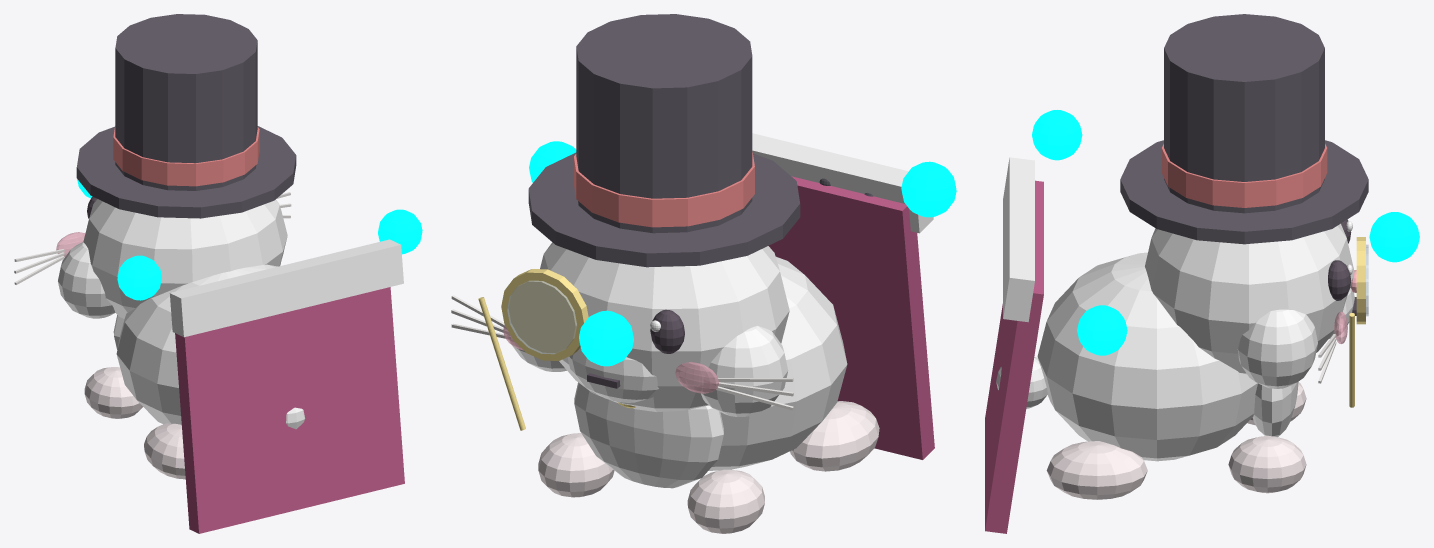
Rendered from UnknownHamsterMrNobody.glb.
The picture shows the model from 3 angles, left to right: view 1: azimuth 30°, elevation 25°; view 2: azimuth 150°, elevation 25°; view 3: azimuth 270°, elevation 25°; orthographic projection. The views are drawn at different scales.
Parts seen in each view (by area): view 1: UnknownHamsterMrNobody_3, UnknownHamsterMrNobody_2, UnknownHamsterMrNobody_7, UnknownHamsterMrNobody_12, UnknownHamsterMrNobody_8, UnknownHamsterMrNobody_5, UnknownHamsterMrNobody_0, UnknownHamsterMrNobody_6; view 2: UnknownHamsterMrNobody_2, UnknownHamsterMrNobody_7, UnknownHamsterMrNobody_3, UnknownHamsterMrNobody_12, UnknownHamsterMrNobody_8, UnknownHamsterMrNobody_11, UnknownHamsterMrNobody_0, UnknownHamsterMrNobody_5, UnknownHamsterMrNobody_4, UnknownHamsterMrNobody_6, UnknownHamsterMrNobody_1, UnknownHamsterMrNobody_10; view 3: UnknownHamsterMrNobody_7, UnknownHamsterMrNobody_2, UnknownHamsterMrNobody_3, UnknownHamsterMrNobody_8, UnknownHamsterMrNobody_12, UnknownHamsterMrNobody_0, UnknownHamsterMrNobody_5, UnknownHamsterMrNobody_11, UnknownHamsterMrNobody_1.
Part boxes in pixels (bbox=[...]): UnknownHamsterMrNobody_3: bbox=[175, 287, 404, 533]; UnknownHamsterMrNobody_2: bbox=[76, 14, 296, 218]; UnknownHamsterMrNobody_7: bbox=[58, 199, 305, 429]; UnknownHamsterMrNobody_12: bbox=[113, 239, 403, 349]; UnknownHamsterMrNobody_8: bbox=[84, 367, 185, 479]; UnknownHamsterMrNobody_5: bbox=[113, 126, 259, 186]; UnknownHamsterMrNobody_0: bbox=[77, 179, 422, 300]; UnknownHamsterMrNobody_6: bbox=[14, 192, 291, 284]; UnknownHamsterMrNobody_2: bbox=[528, 14, 873, 267]; UnknownHamsterMrNobody_7: bbox=[510, 242, 847, 470]; UnknownHamsterMrNobody_3: bbox=[768, 176, 934, 459]; UnknownHamsterMrNobody_12: bbox=[567, 133, 933, 488]; UnknownHamsterMrNobody_8: bbox=[538, 401, 879, 533]; UnknownHamsterMrNobody_11: bbox=[478, 269, 635, 430]; UnknownHamsterMrNobody_0: bbox=[529, 141, 956, 366]; UnknownHamsterMrNobody_5: bbox=[574, 151, 754, 227]; UnknownHamsterMrNobody_4: bbox=[507, 280, 576, 354]; UnknownHamsterMrNobody_6: bbox=[451, 295, 793, 410]; UnknownHamsterMrNobody_1: bbox=[587, 309, 684, 388]; UnknownHamsterMrNobody_10: bbox=[503, 325, 718, 393]; UnknownHamsterMrNobody_7: bbox=[996, 223, 1354, 461]; UnknownHamsterMrNobody_2: bbox=[1120, 14, 1368, 244]; UnknownHamsterMrNobody_3: bbox=[985, 180, 1043, 533]; UnknownHamsterMrNobody_8: bbox=[1046, 382, 1306, 499]; UnknownHamsterMrNobody_12: bbox=[1003, 157, 1354, 437]; UnknownHamsterMrNobody_0: bbox=[1032, 110, 1419, 355]; UnknownHamsterMrNobody_5: bbox=[1161, 144, 1327, 207]; UnknownHamsterMrNobody_11: bbox=[1349, 237, 1365, 407]; UnknownHamsterMrNobody_1: bbox=[1328, 219, 1356, 315].
Size of the model in its own units: 4.5 by 5.15 by 4.73.
